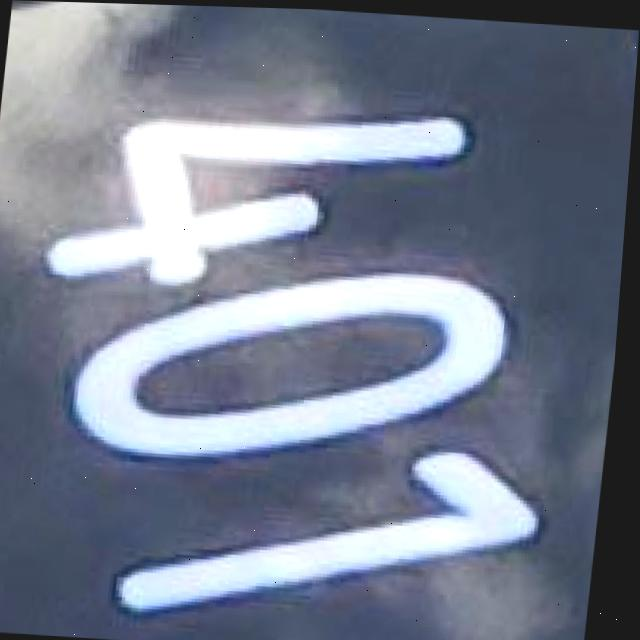character: (49, 243, 528, 492), (30, 74, 482, 316), (99, 426, 548, 640)
